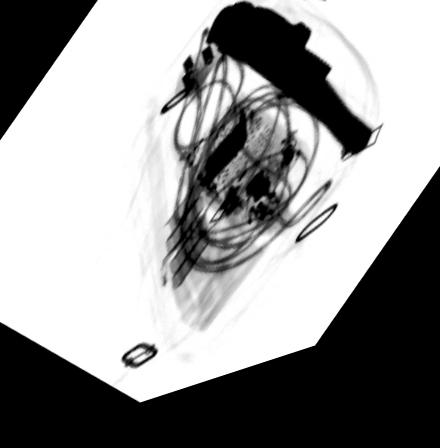Wrench: (204, 13, 376, 180)
